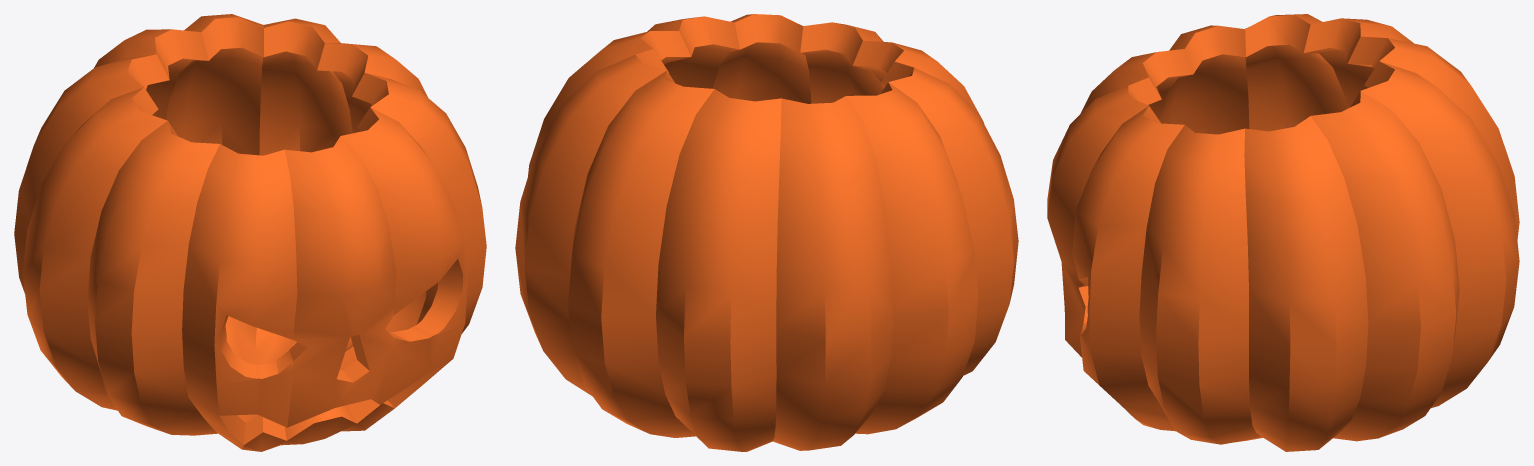
The model's file is jackolantern_small.gltf.glb.
The picture shows the model from 3 angles, left to right: view 1: azimuth 30°, elevation 25°; view 2: azimuth 150°, elevation 25°; view 3: azimuth 270°, elevation 25°; orthographic projection. The views are drawn at different scales.
Parts seen in each view (by area): view 1: jackolantern_small; view 2: jackolantern_small; view 3: jackolantern_small.
Part boxes in pixels (x1,y1,x2,y2): jackolantern_small: (14,14,486,451); jackolantern_small: (515,14,1018,451); jackolantern_small: (1047,14,1519,451).
Size of the model in its own units: 0.9423 by 0.7499 by 0.9084.
